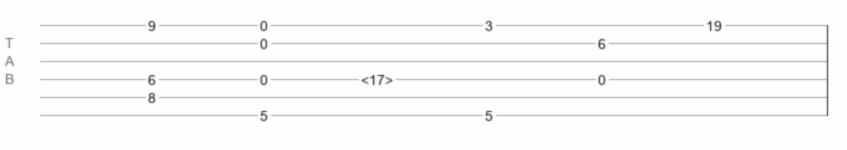0: (260, 72, 268, 82), (260, 18, 268, 28), (260, 36, 268, 46), (598, 72, 606, 82)
19: (706, 18, 722, 28)
3: (485, 18, 493, 28)
5: (260, 108, 268, 118), (485, 108, 493, 118)
6: (148, 72, 156, 82), (598, 36, 606, 46)
8: (148, 90, 156, 100)
9: (148, 18, 156, 28)
harmonic: (361, 72, 393, 82)
